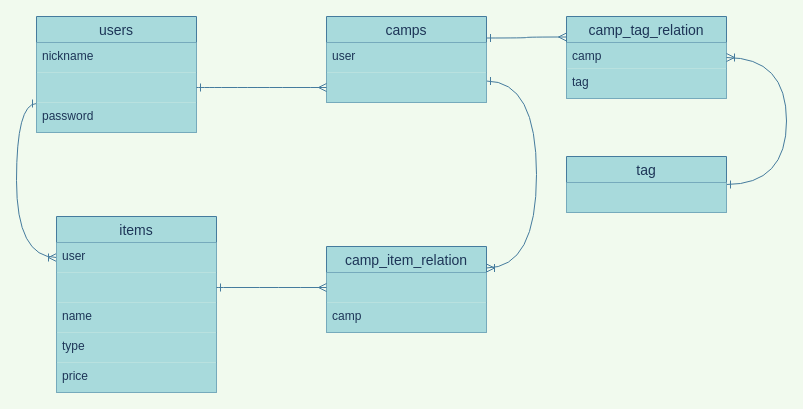
The diagram is 803 pixels wide and 409 high, and some of its shapes have lost their labels. Each missing label, with the centre of its shape:
email: (x=116, y=87)
ganre_id: (x=136, y=287)
item: (x=406, y=287)
style: (x=646, y=197)
title: (x=406, y=87)
